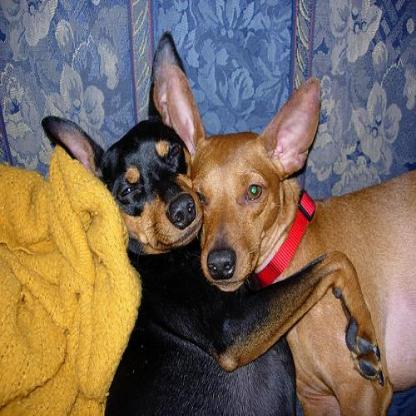miniature_pinscher: (43, 31, 386, 408), (163, 61, 414, 414)
